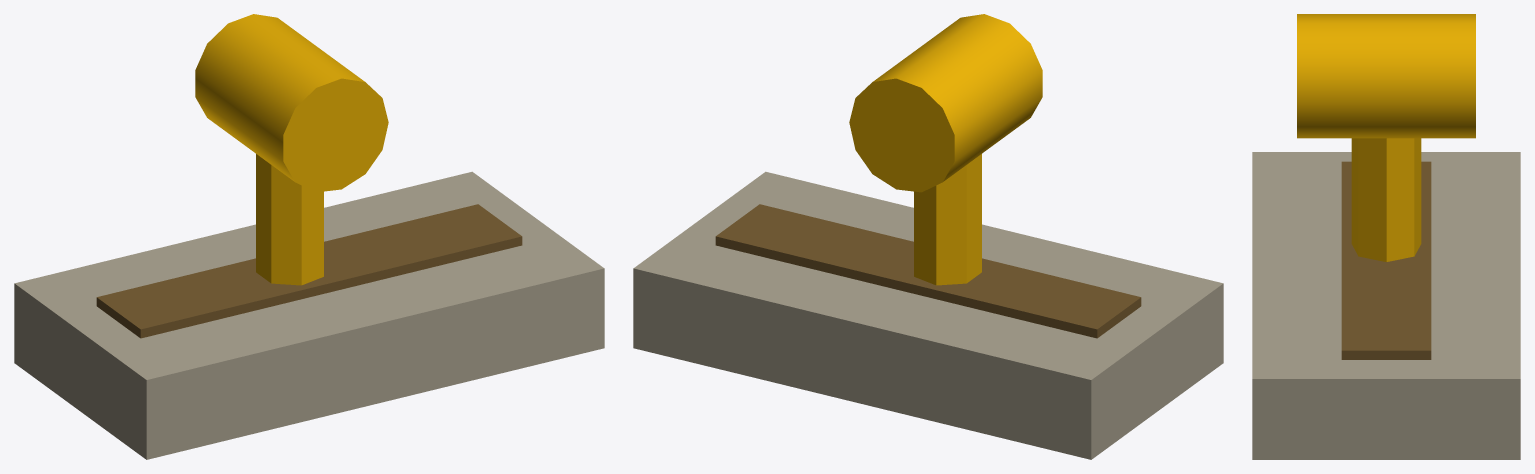
File: palanca.fbx
The picture shows the model from 3 angles, left to right: view 1: azimuth 30°, elevation 25°; view 2: azimuth 150°, elevation 25°; view 3: azimuth 270°, elevation 25°; orthographic projection.
Parts seen in each view (by area): view 1: pCube1, pCylinder3, pCube2; view 2: pCube1, pCylinder3, pCube2; view 3: pCube1, pCylinder3, pCube2.
Part boxes in pixels (x1,y1,x2,y2): pCube1: [14, 171, 604, 459]; pCylinder3: [195, 14, 388, 285]; pCube2: [96, 204, 522, 338]; pCube1: [633, 171, 1223, 459]; pCylinder3: [849, 14, 1042, 285]; pCube2: [715, 204, 1141, 338]; pCube1: [1252, 152, 1520, 459]; pCylinder3: [1297, 14, 1475, 261]; pCube2: [1341, 161, 1431, 359].
Bounding box in the file's own units: 6 × 3.91 × 3.
